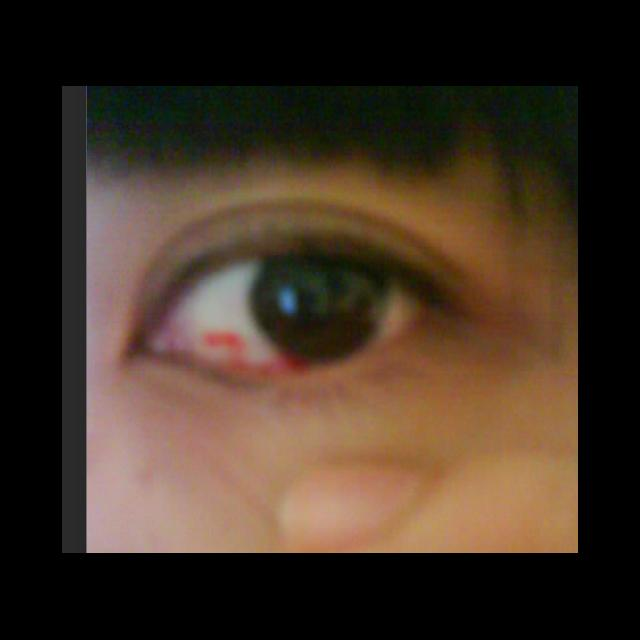eye: (168, 255, 423, 376)
iris: (256, 259, 384, 361)
